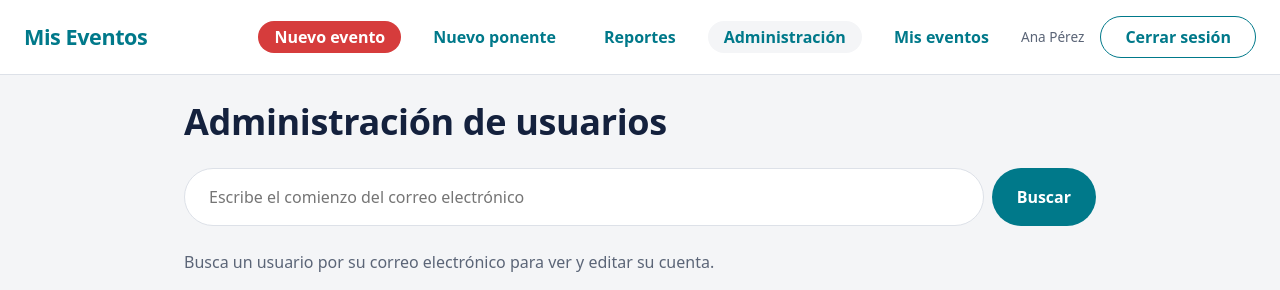
Test case: AdminUsersPage search › says nothing matched when the search has no results
Type "zzz" into the search field named "Correo electrónico del usuario".
click(584, 197); type("zzz")  # box 184,168 -> 984,226
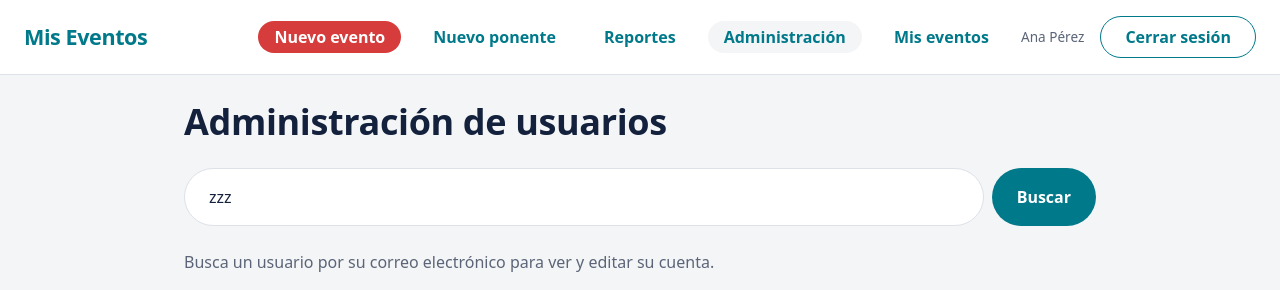
Click the button "Buscar".
click(1044, 197)  # box 992,168 -> 1096,226
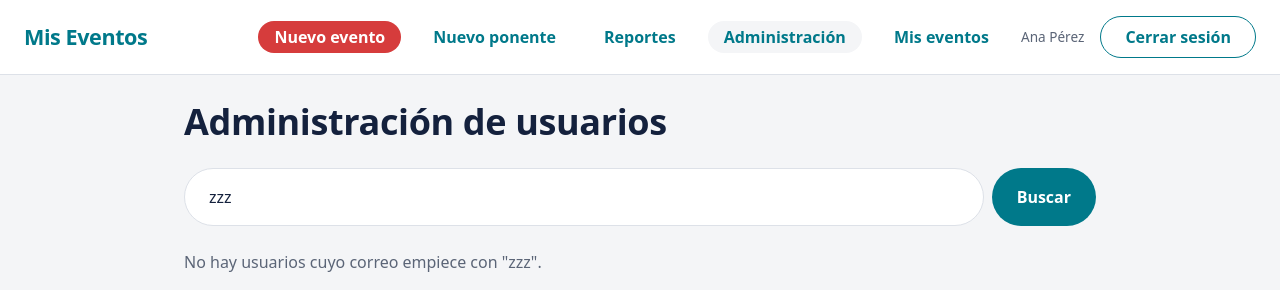
Result: the text "No hay usuarios cuyo correo empiece con \"zzz\"." is shown at 184,251 -> 542,273
